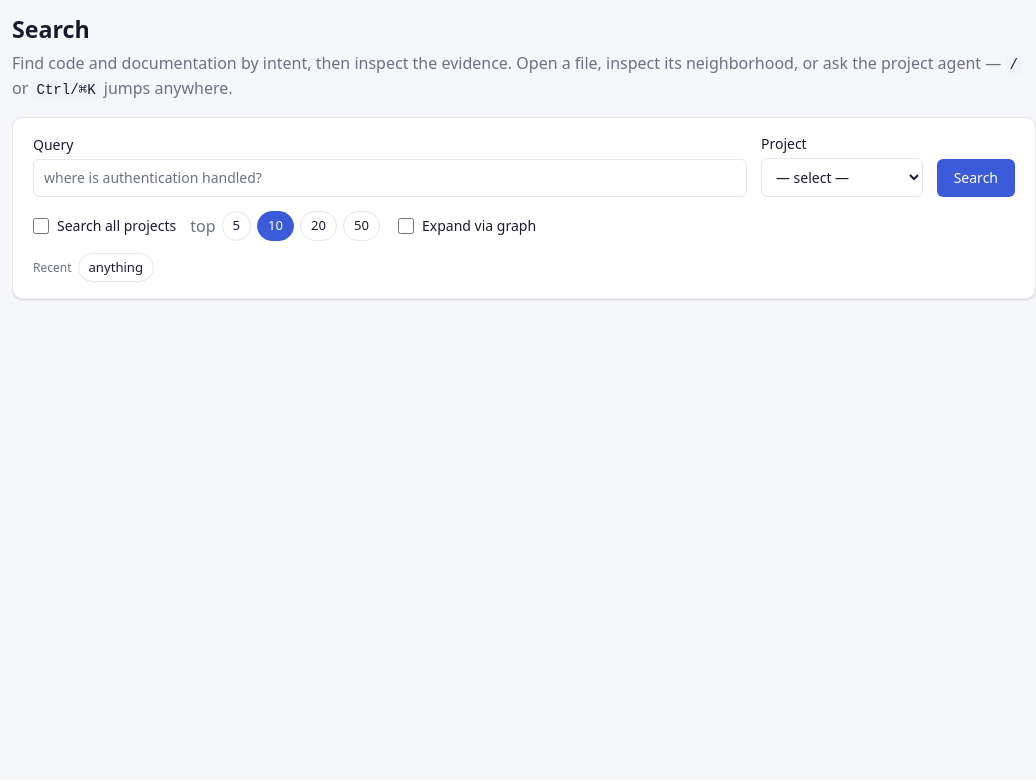
Test case: SearchPage degraded badge › omits the retry hint when the server sends no retry_after_ms
Type "anything" into the field with placeholder "where is authentication handled?" at (390, 178), box top-left (33, 159), bottom-right (747, 197)
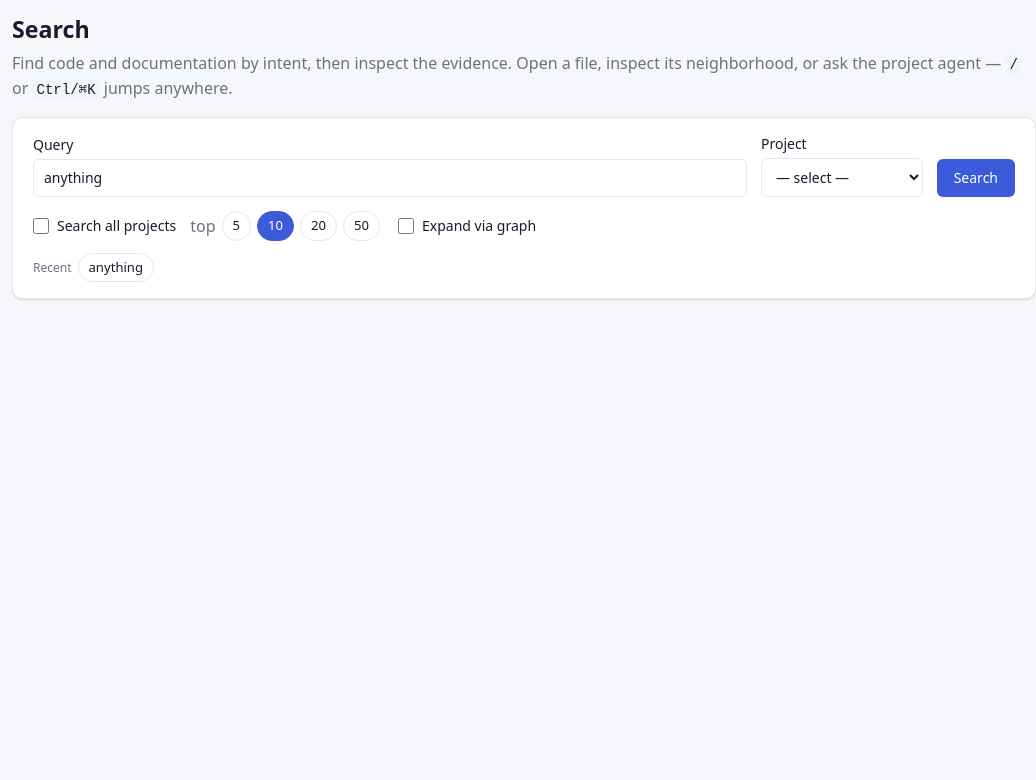
Click the button "Search" at (976, 178), box top-left (937, 159), bottom-right (1015, 197)
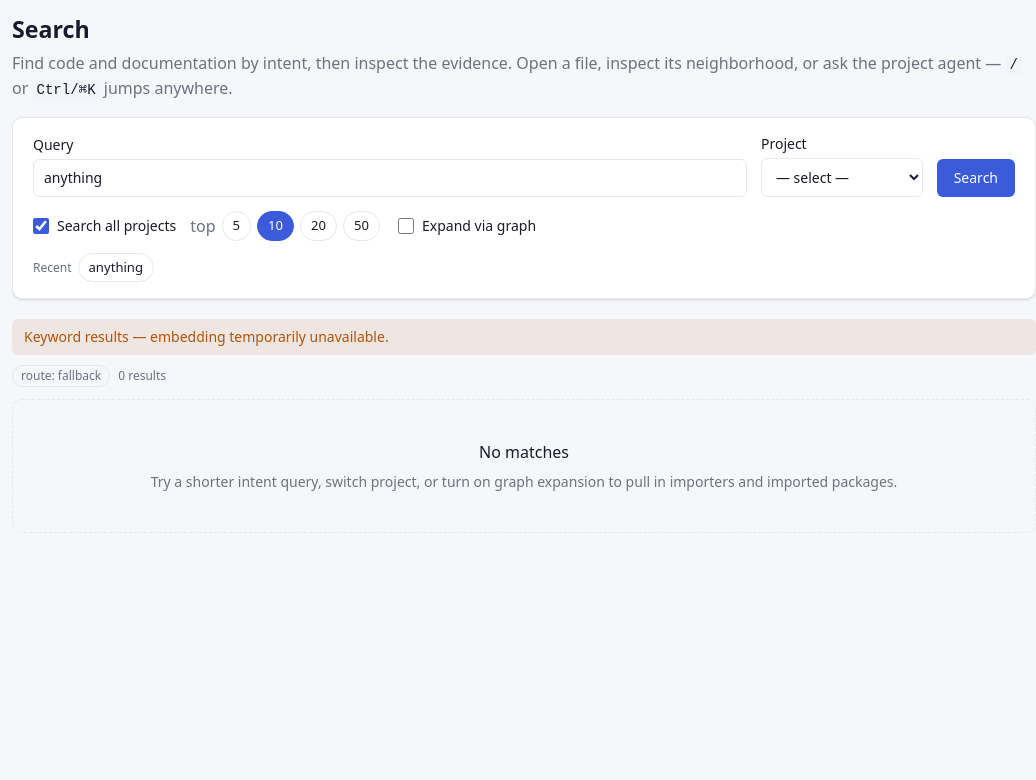
Result: the text "No matches" is shown at top-left (479, 440), bottom-right (569, 464)
Result: the message reads "Keyword results — embedding temporarily unavailable." at top-left (12, 319), bottom-right (1035, 355)
